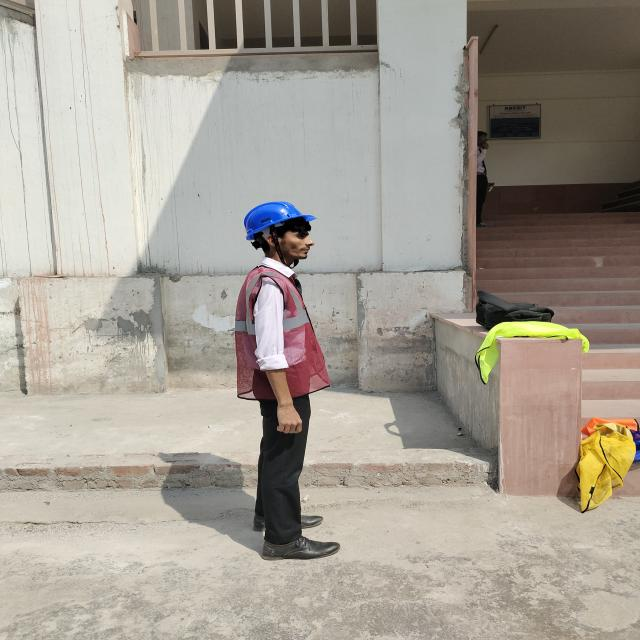safe: (237, 202, 330, 560)
